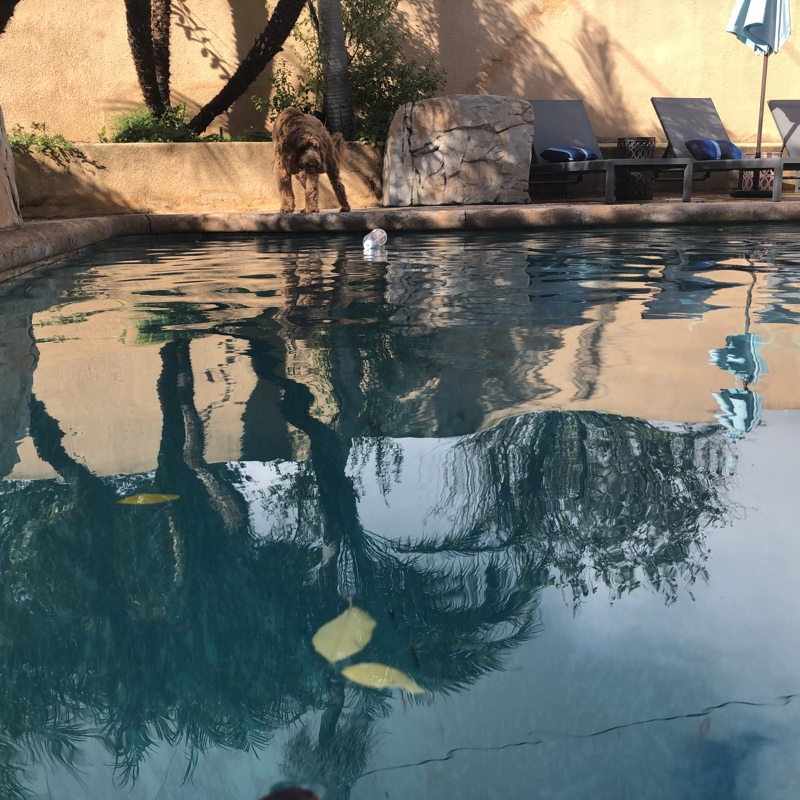Plastic Bottle: (361, 229, 389, 248)
